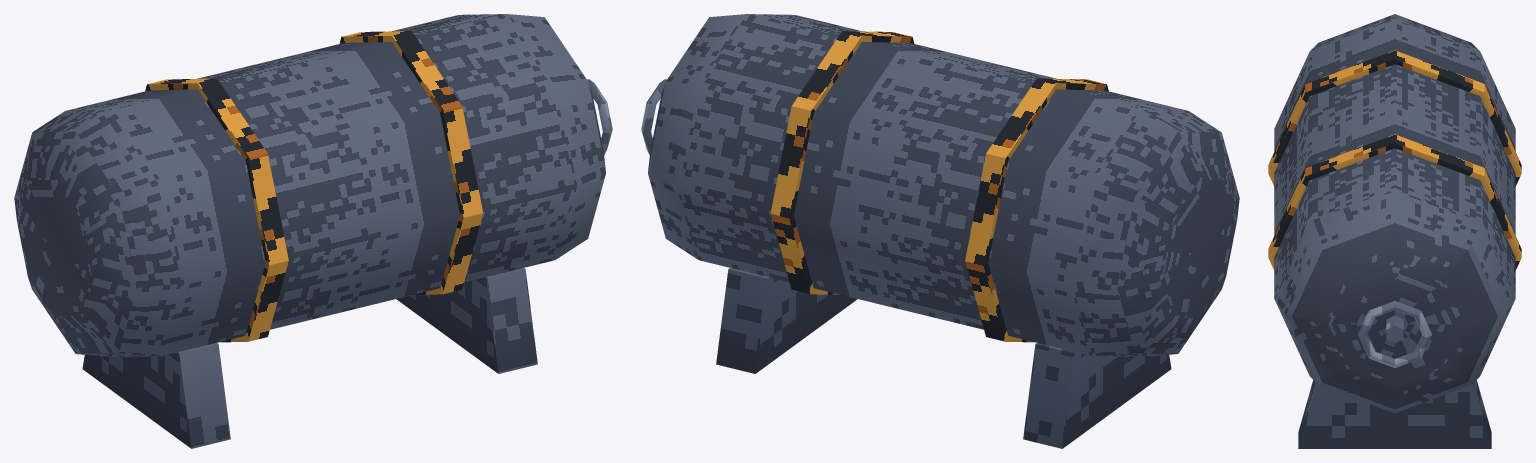
File: tech.tank__horizontal.glb
The picture shows the model from 3 angles, left to right: view 1: azimuth 30°, elevation 25°; view 2: azimuth 150°, elevation 25°; view 3: azimuth 270°, elevation 25°; orthographic projection. The views are drawn at different scales.
Parts seen in each view (by area): view 1: kit_body, kit_saddles, kit_bands, kit_wheel; view 2: kit_body, kit_saddles, kit_bands, kit_wheel; view 3: kit_body, kit_saddles, kit_bands, kit_wheel, kit_stem.
Part boxes in pixels (x1,y1,x2,y2): kit_body: [14, 14, 605, 357]; kit_saddles: [82, 268, 537, 448]; kit_bands: [145, 31, 483, 342]; kit_wheel: [587, 79, 612, 155]; kit_body: [648, 14, 1239, 357]; kit_saddles: [716, 268, 1171, 448]; kit_bands: [770, 31, 1108, 342]; kit_wheel: [641, 79, 666, 155]; kit_body: [1274, 14, 1515, 413]; kit_saddles: [1298, 380, 1491, 448]; kit_bands: [1268, 50, 1521, 270]; kit_wheel: [1358, 301, 1431, 367]; kit_stem: [1386, 315, 1403, 343].
Size of the model in its own units: 2.74 by 1.51 by 1.26.
Materials: 4 (4 with a texture image).
